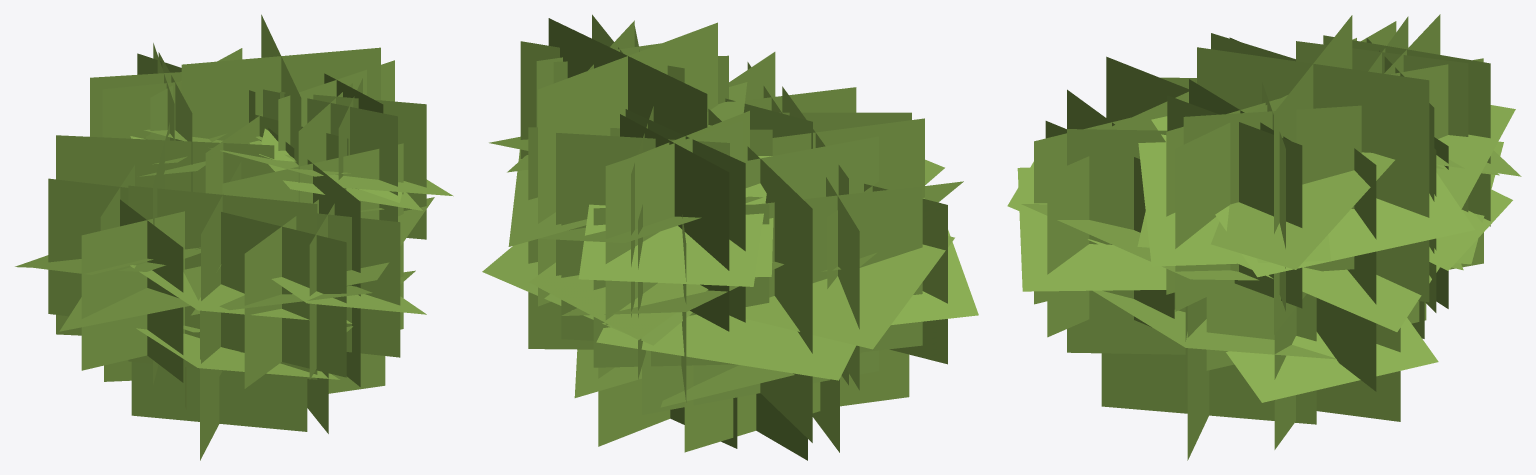
Rendered from noisetier_1_f2_loin.glb.
3 views of the same model, side by side, from view 1: azimuth 30°, elevation 25°; view 2: azimuth 150°, elevation 25°; view 3: azimuth 270°, elevation 25° (orthographic). The views are drawn at different scales.
Visible parts, largest first — view 1: Noisetier_T1_f2_Leger_Loin; view 2: Noisetier_T1_f2_Leger_Loin; view 3: Noisetier_T1_f2_Leger_Loin.
Part boxes in pixels (left/top/right/bottom): Noisetier_T1_f2_Leger_Loin: left=15, top=14, right=453, bottom=460; Noisetier_T1_f2_Leger_Loin: left=482, top=14, right=978, bottom=460; Noisetier_T1_f2_Leger_Loin: left=1007, top=14, right=1521, bottom=460.
Bounding box in the file's own units: 4.9 × 3.74 × 4.69.
